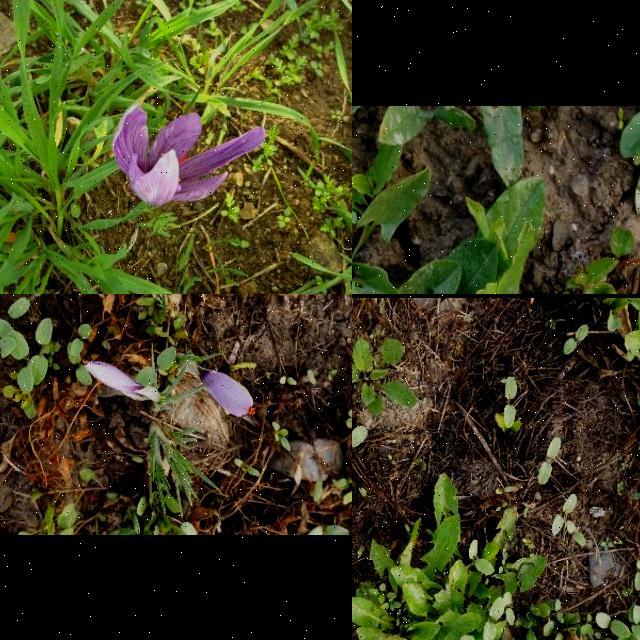flower: (114, 109, 266, 209), (194, 368, 256, 418), (82, 362, 156, 402)
